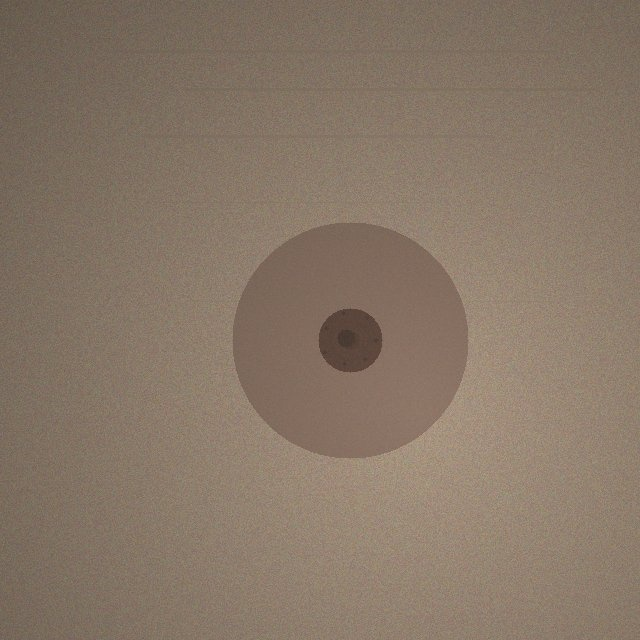cold_weld: (232, 222, 468, 458)
